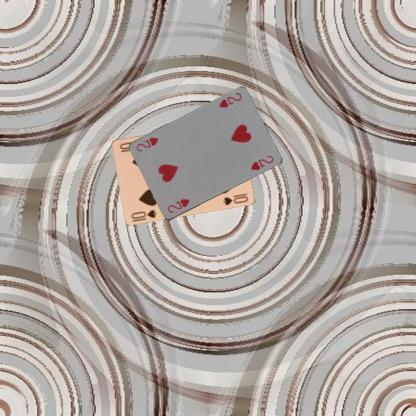10s: (129, 207, 158, 220)
2h: (216, 90, 243, 109), (164, 196, 190, 214)
